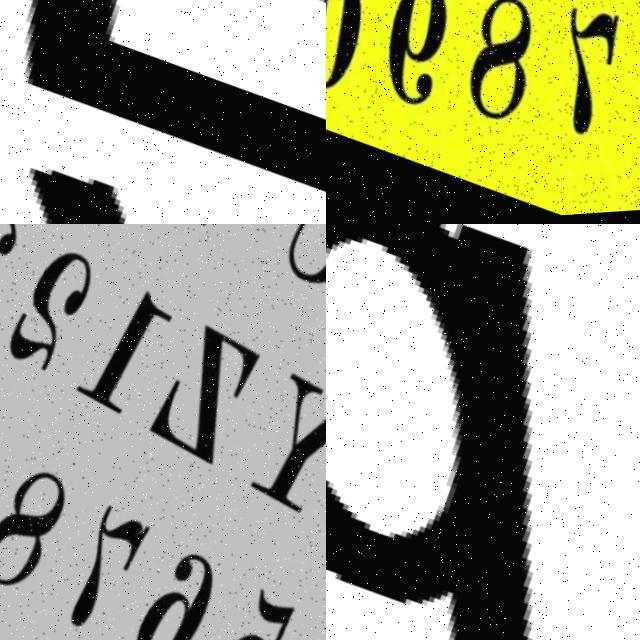0: (326, 0, 405, 122)
1: (45, 256, 198, 443)
2: (0, 224, 127, 398)
3: (0, 224, 44, 358)
5: (159, 563, 315, 640)
6: (88, 529, 240, 640), (584, 6, 640, 191)
7: (13, 471, 176, 640), (497, 0, 640, 173)
8: (411, 0, 568, 145), (0, 431, 92, 613)
9: (326, 0, 490, 132)
P: (326, 224, 530, 640)
